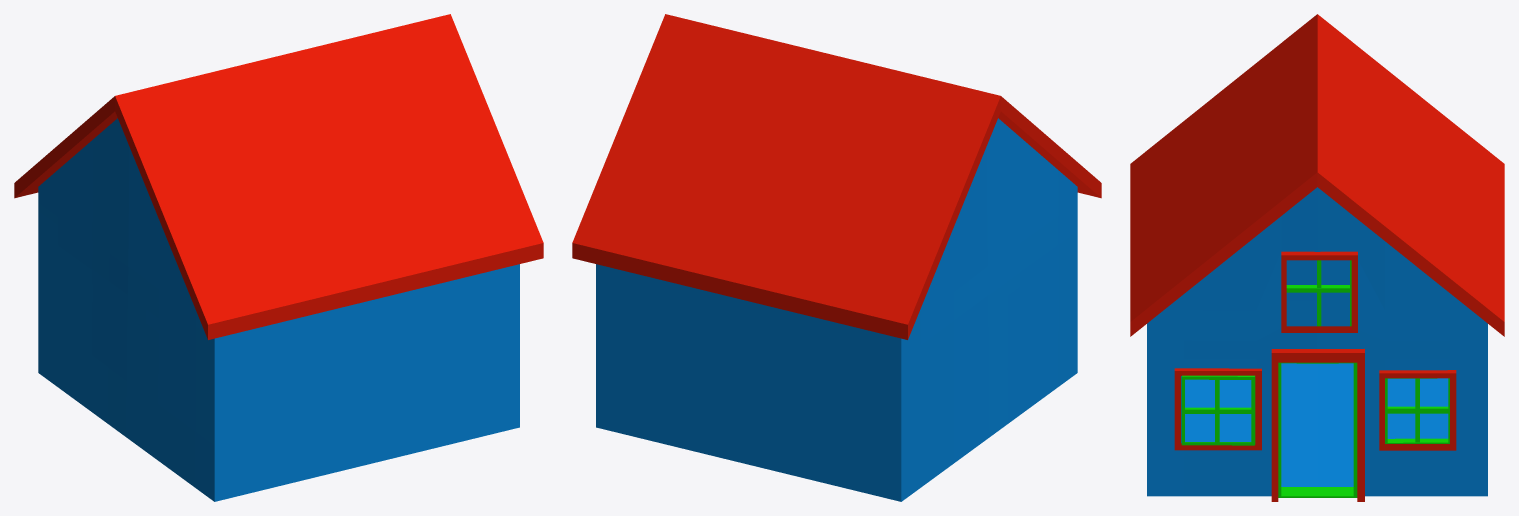
File: house 3.fbx
3 views of the same model, side by side, from view 1: azimuth 30°, elevation 25°; view 2: azimuth 150°, elevation 25°; view 3: azimuth 270°, elevation 25° (orthographic). The views are drawn at different scales.
Parts seen in each view (by area): view 1: Cube.001, Cube; view 2: Cube.001, Cube; view 3: Cube, Cube.001, Cube.014, Cube.011, Cube.012, Cube.002, Cube.013, Cube.004, Cube.003, Cube.009, Cube.006.
Boxes of the visible parts, bbox=[...] form: Cube.001: bbox=[14, 14, 543, 339]; Cube: bbox=[38, 118, 519, 501]; Cube.001: bbox=[572, 14, 1101, 339]; Cube: bbox=[596, 118, 1077, 501]; Cube: bbox=[1147, 187, 1487, 496]; Cube.001: bbox=[1130, 14, 1504, 336]; Cube.014: bbox=[1271, 348, 1364, 501]; Cube.011: bbox=[1174, 368, 1261, 450]; Cube.012: bbox=[1281, 251, 1357, 332]; Cube.002: bbox=[1278, 362, 1357, 497]; Cube.013: bbox=[1379, 370, 1456, 450]; Cube.004: bbox=[1181, 375, 1255, 445]; Cube.003: bbox=[1385, 378, 1449, 443]; Cube.009: bbox=[1286, 285, 1349, 292]; Cube.006: bbox=[1387, 406, 1448, 413].
Bounding box in the file's own units: 222 × 216 × 220.
